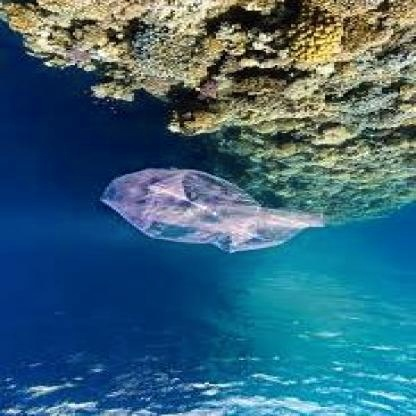pbag: (96, 168, 330, 254)
